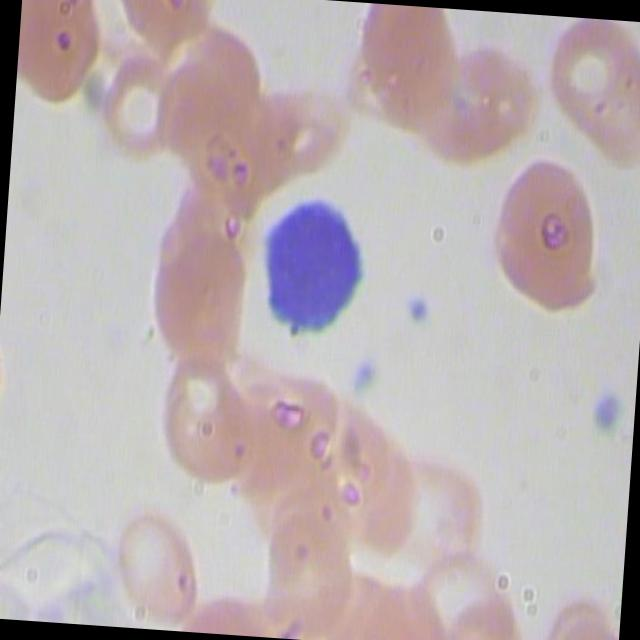Platelets: (345, 351, 381, 391), (594, 388, 625, 434), (401, 290, 436, 330)
RBC: (478, 147, 622, 326), (234, 352, 348, 501), (290, 395, 404, 544), (376, 428, 494, 570), (144, 351, 261, 492), (426, 39, 550, 170), (341, 1, 464, 130), (144, 222, 255, 362), (260, 501, 359, 640), (114, 491, 212, 631), (258, 62, 362, 190), (182, 89, 286, 217), (540, 15, 640, 140), (92, 45, 182, 169), (15, 0, 112, 111), (557, 48, 640, 174), (113, 0, 224, 51)
WBC: (256, 191, 372, 347)
